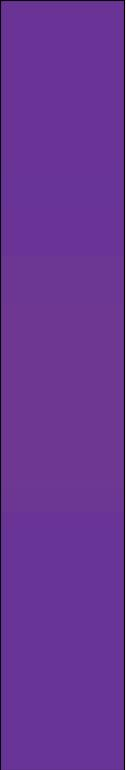safe: (10, 11, 119, 761)
